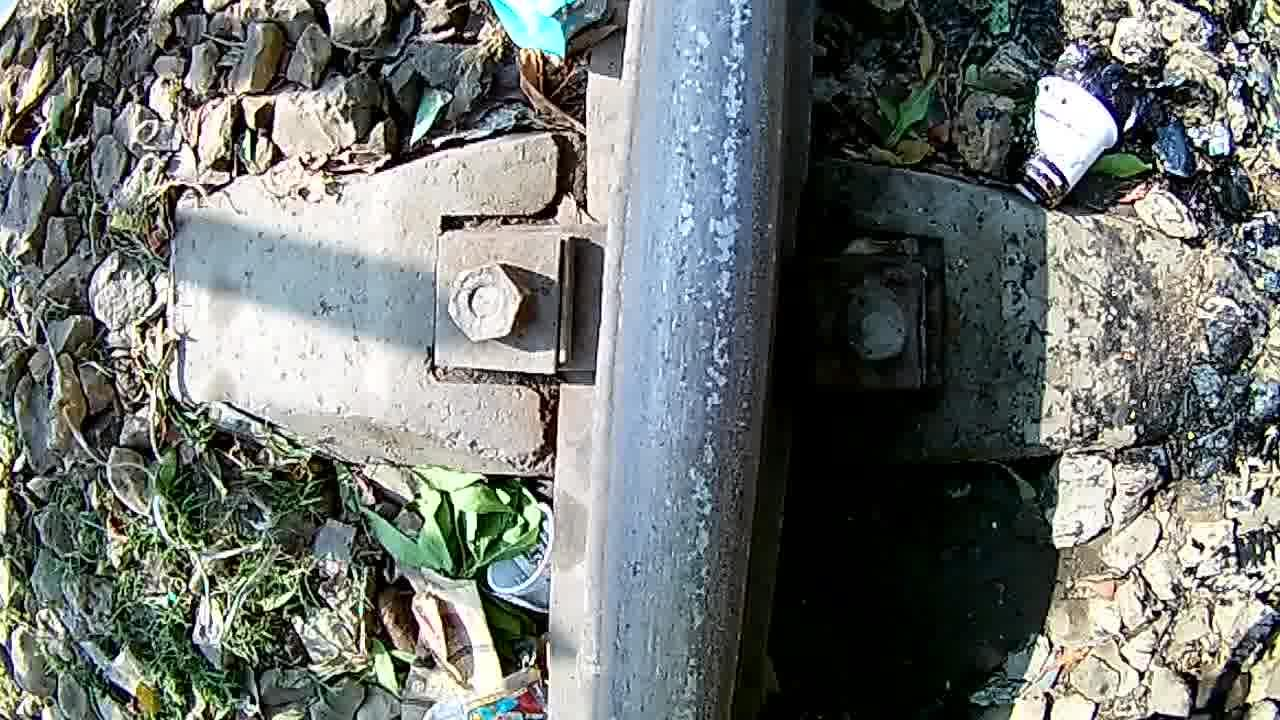clip_missing: (596, 0, 798, 720)
